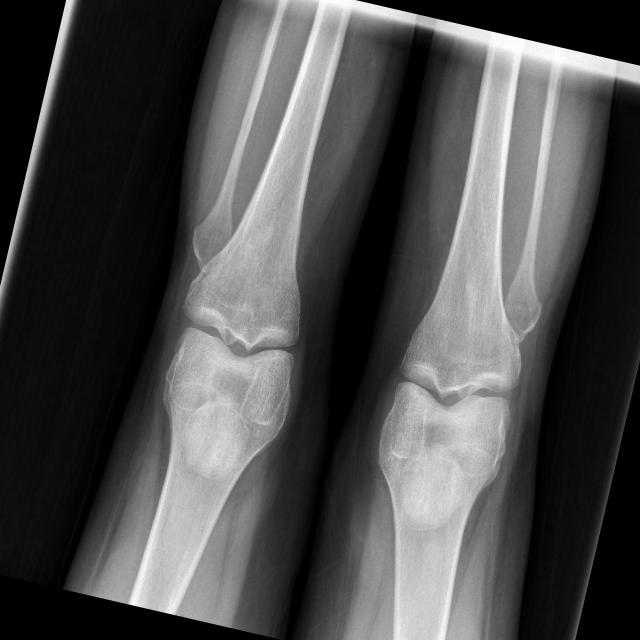Knee: (371, 300, 534, 476), (156, 248, 320, 422)
